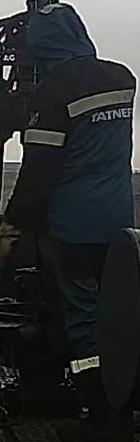gloves: (0, 204, 25, 264)
vest: (22, 58, 138, 242)
